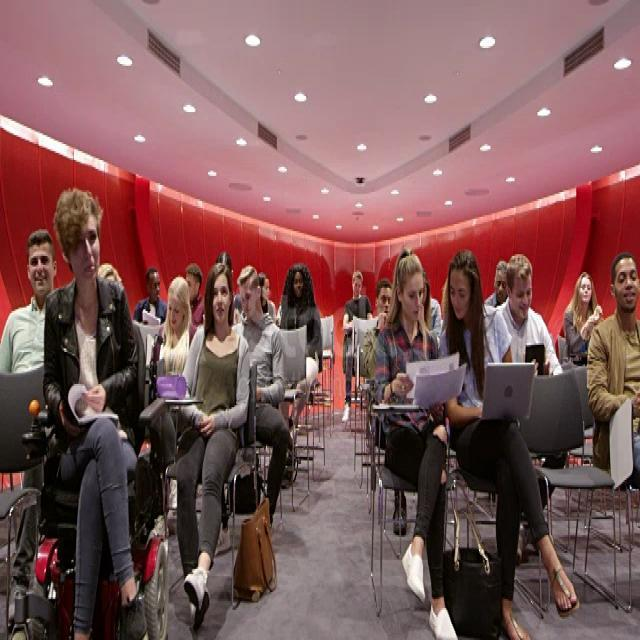Looking away: (449, 269, 471, 320), (402, 272, 423, 320), (512, 274, 532, 320), (240, 280, 257, 318), (168, 291, 183, 329), (494, 269, 509, 303), (146, 272, 160, 302), (352, 276, 362, 298)
Looking forward: (70, 218, 99, 282), (616, 258, 640, 312), (28, 244, 52, 294), (212, 276, 230, 322), (377, 286, 392, 318), (580, 276, 592, 304), (294, 272, 304, 298)
